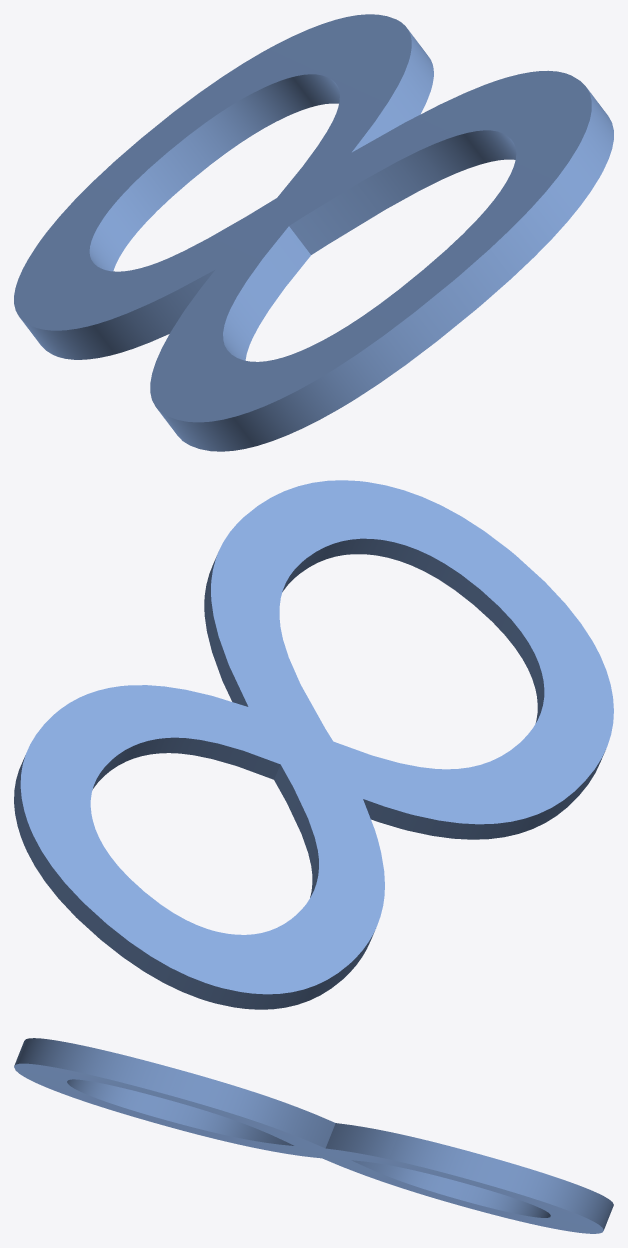
The model's file is New_Number_8.gltf.
The picture shows the model from 3 angles, top to bottom: view 1: azimuth 30°, elevation 25°; view 2: azimuth 150°, elevation 25°; view 3: azimuth 270°, elevation 25°; orthographic projection. The views are drawn at different scales.
Visible parts, largest first — view 1: Part 647; view 2: Part 647; view 3: Part 647.
Boxes of the visible parts, bbox=[...] form: Part 647: bbox=[14, 14, 613, 451]; Part 647: bbox=[14, 480, 613, 1009]; Part 647: bbox=[14, 1038, 613, 1233].
Bounding box in the file's own units: 0.00352 × 0.00272 × 0.00557.
